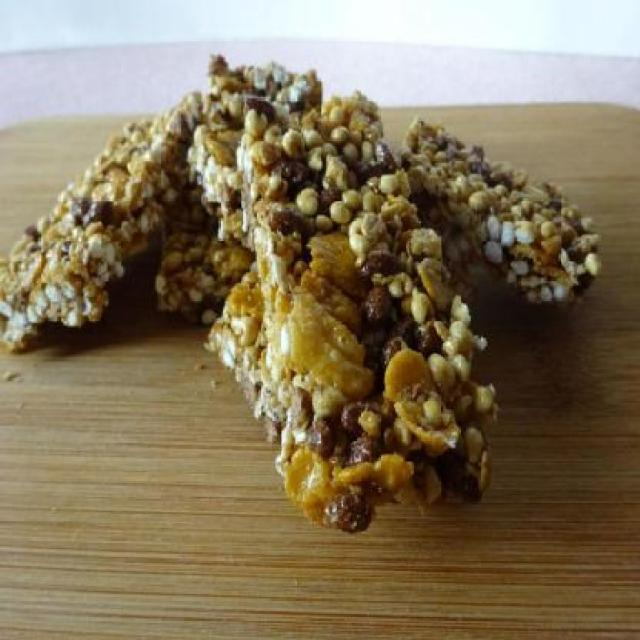Cereal bar packaged: (232, 98, 492, 526), (3, 92, 206, 344), (403, 110, 606, 319)
